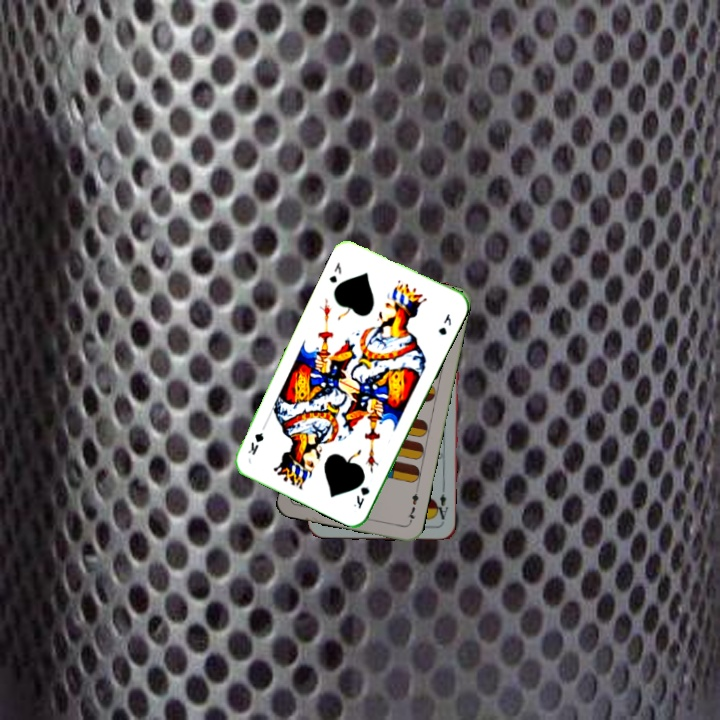E7: (404, 486, 421, 526)
EA: (431, 485, 451, 525)
GK: (349, 483, 372, 511), (325, 258, 344, 286)
